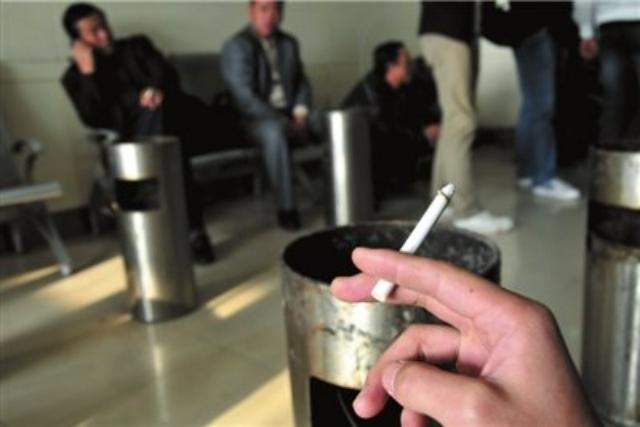Cigarette: (366, 180, 458, 300)
